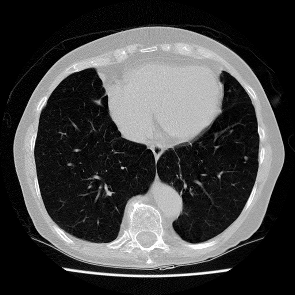nodule: (244, 156, 248, 160)
